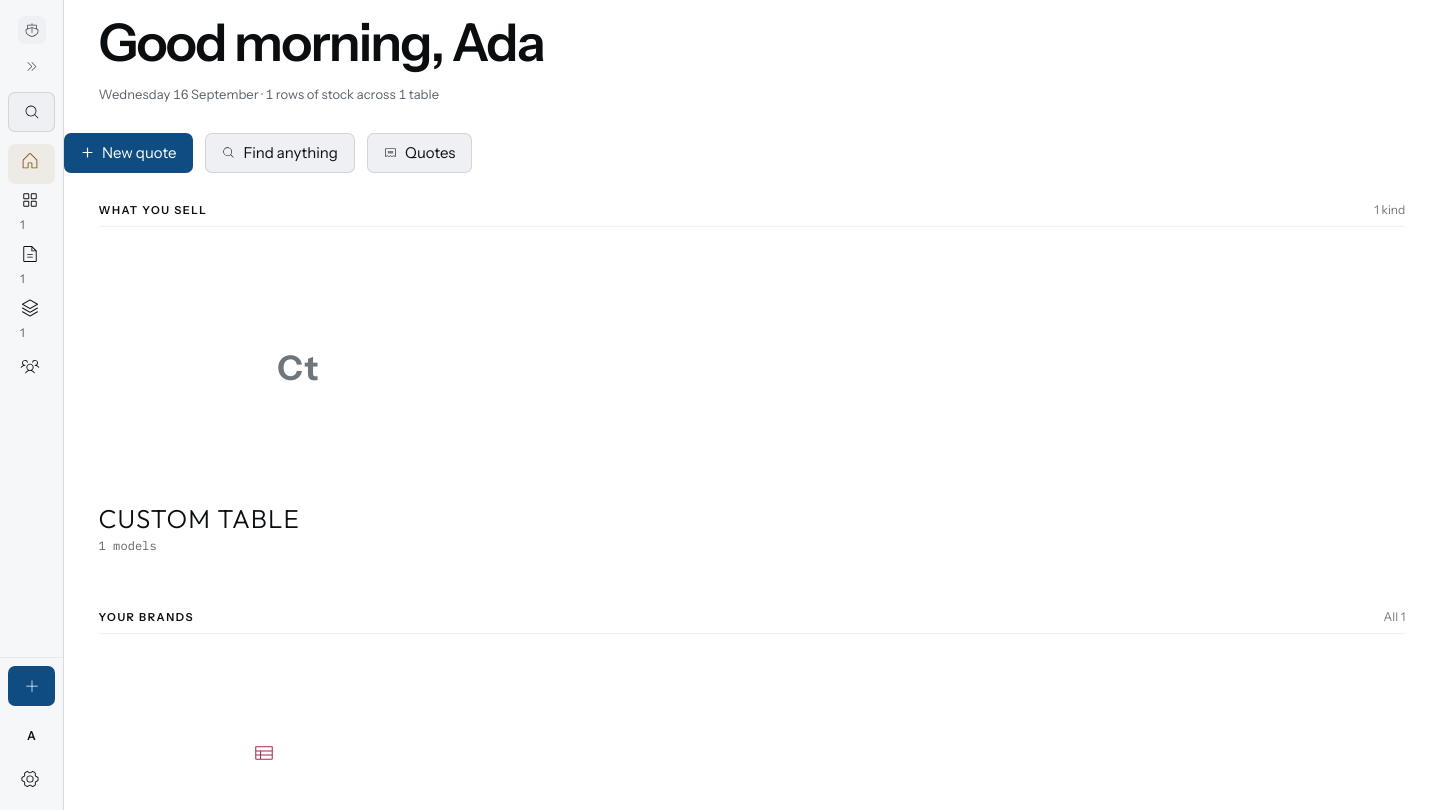
Test case: choosing one opens the thing, and puts the finder away › lands on the place, named
(page scrolled)
Press k
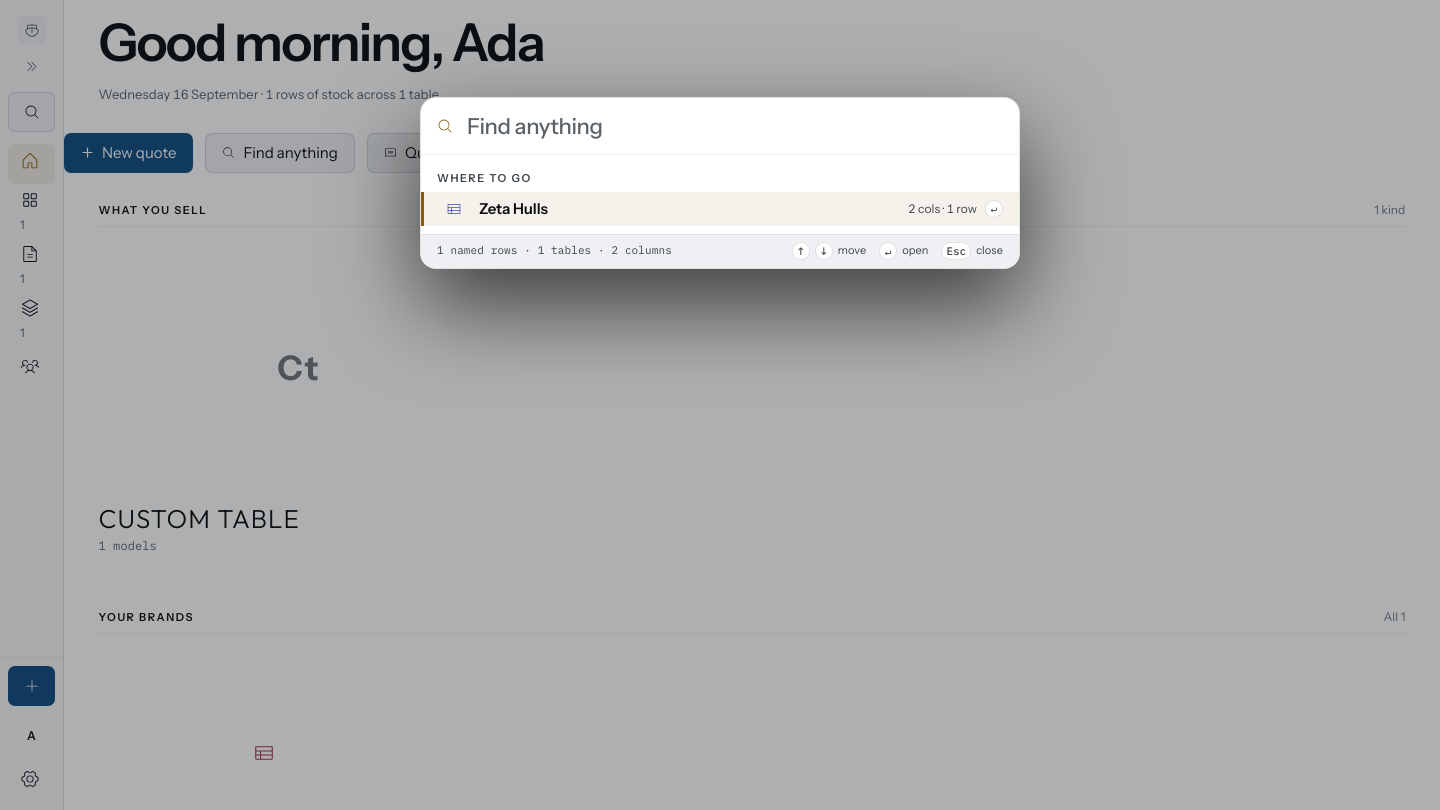
Type "zetaworks" into the dropdown at {"x": 720, "y": 126}, box [421, 98, 1019, 154]
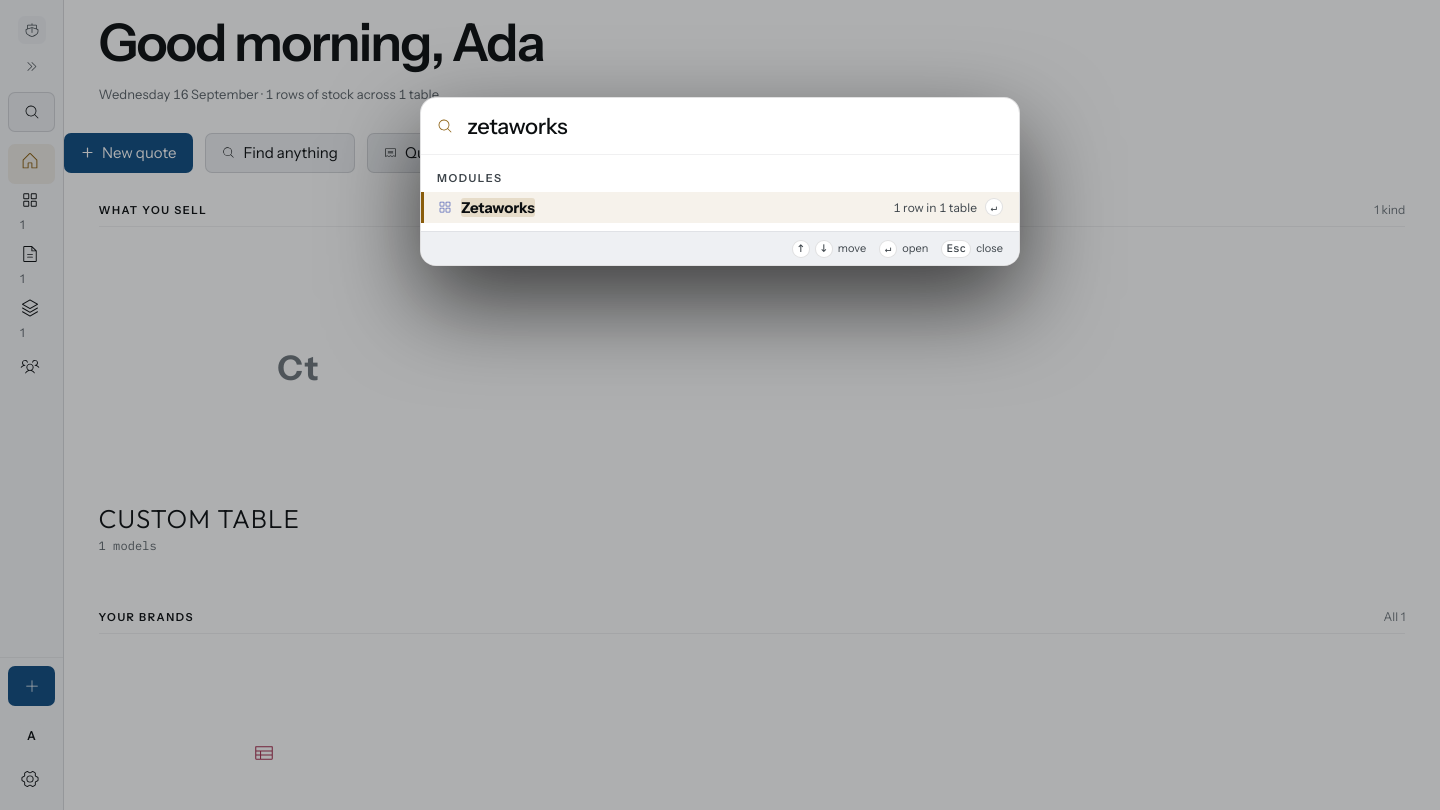
Expected: the option "Zetaworks 1 row in 1 table ↵" is shown
Click the option with aria-label "Zetaworks — a place" at {"x": 498, "y": 207}, box [421, 192, 1019, 223]
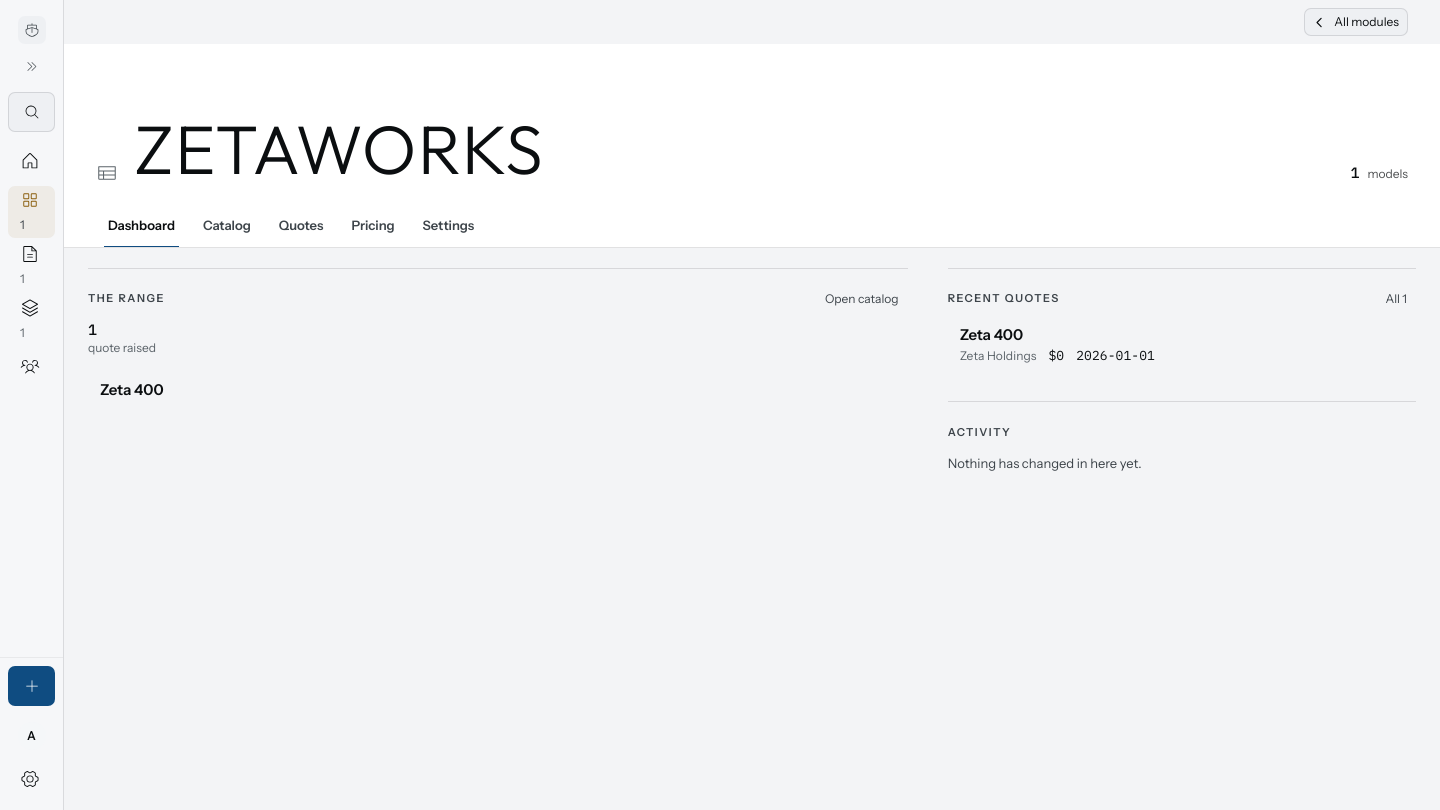
Expected: the button "Find anything" is gone
Expected: the element "Zetaworks" is shown
